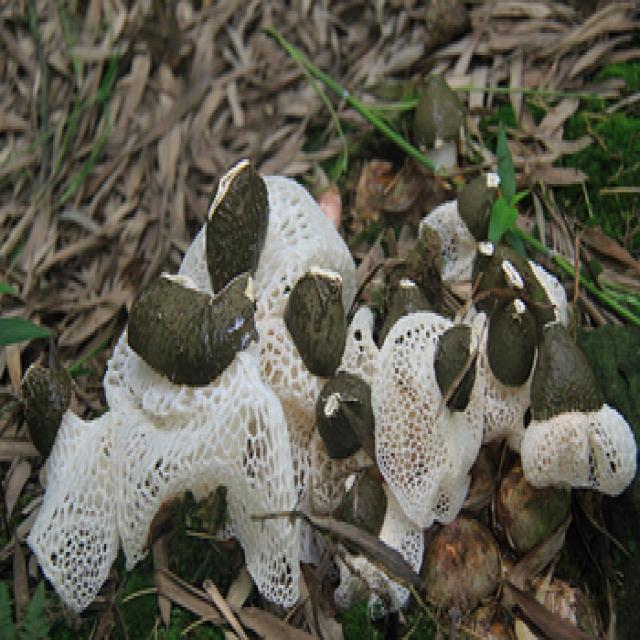Dictyophora indusiate: (121, 279, 298, 602), (19, 357, 126, 599), (377, 313, 485, 526), (174, 156, 358, 277), (521, 329, 638, 496), (248, 269, 338, 424), (309, 301, 374, 505), (337, 467, 419, 615), (467, 301, 536, 449), (418, 168, 498, 282), (472, 239, 569, 322)
